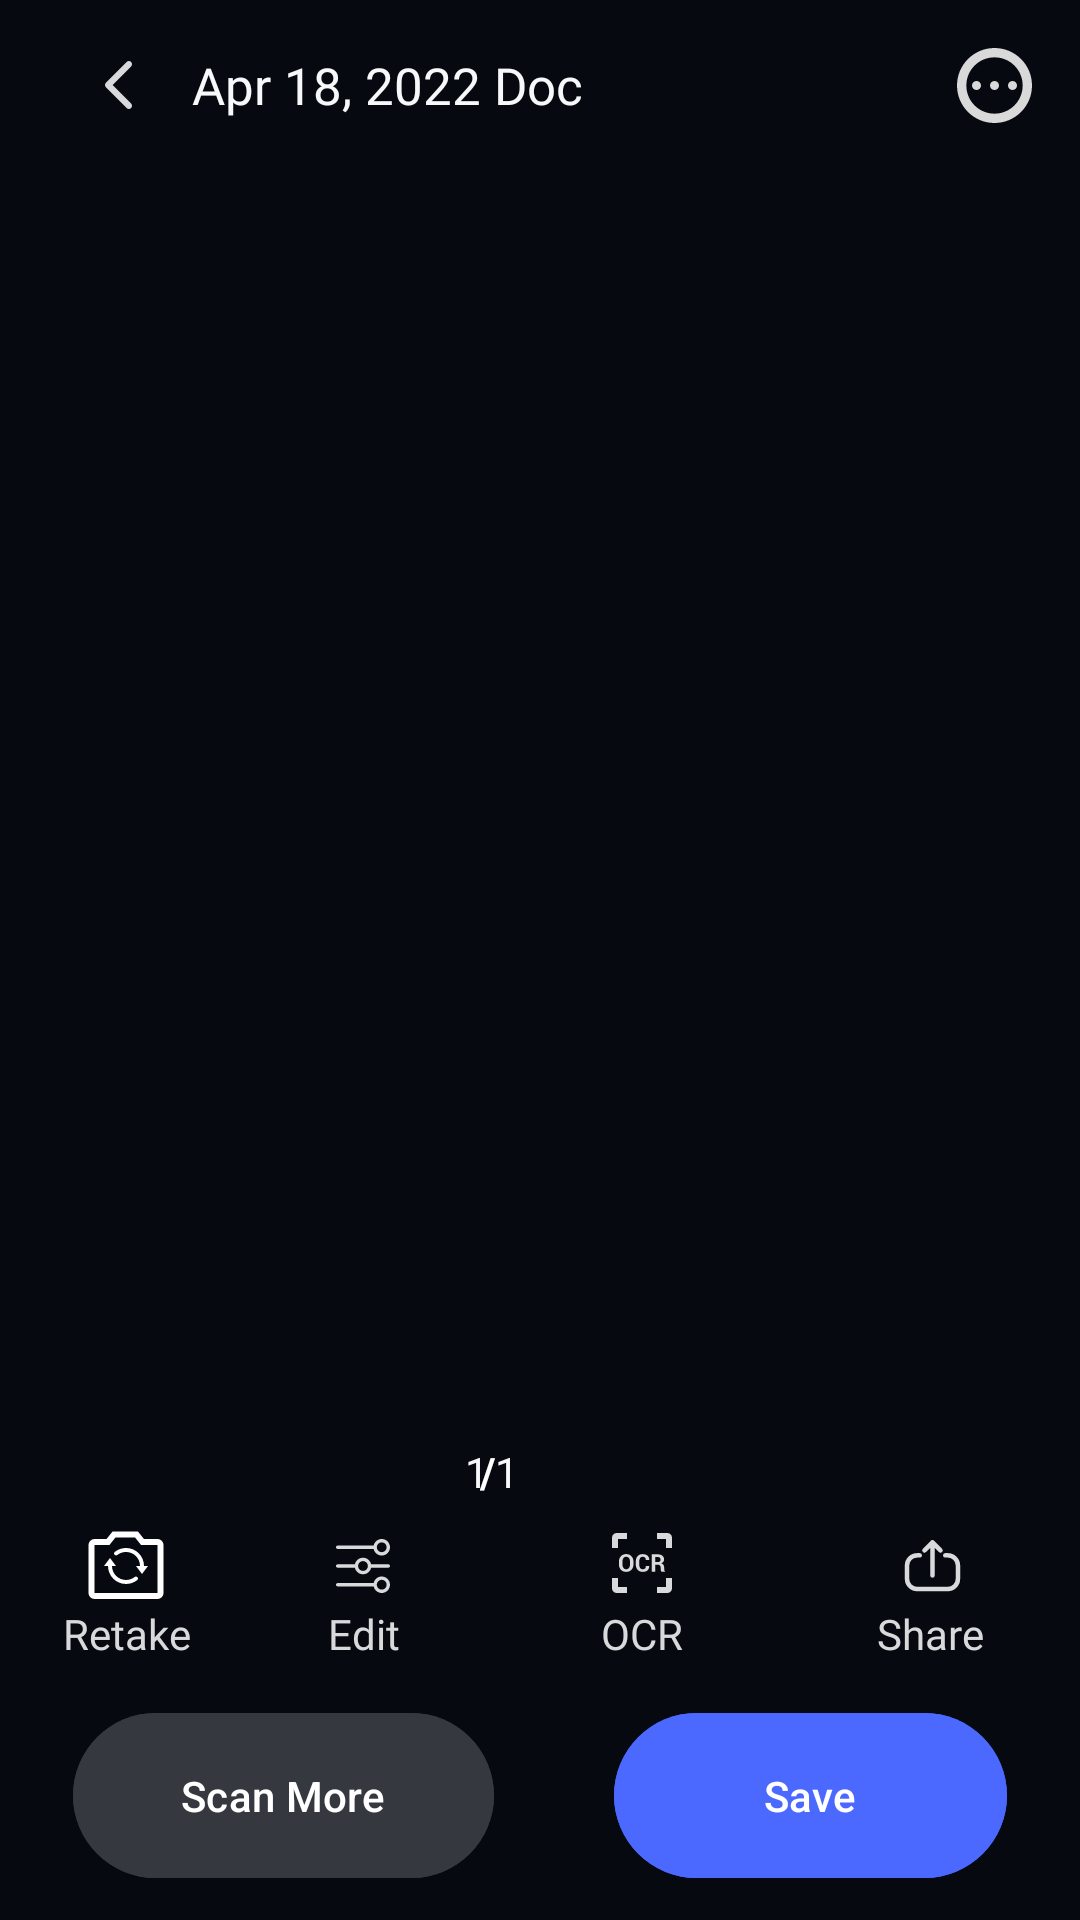

Where to tap for icons on this 1080 x 1920 app screen, as (x=x, y=y):
Back btn: (x=118, y=85)
option: (x=994, y=85)
